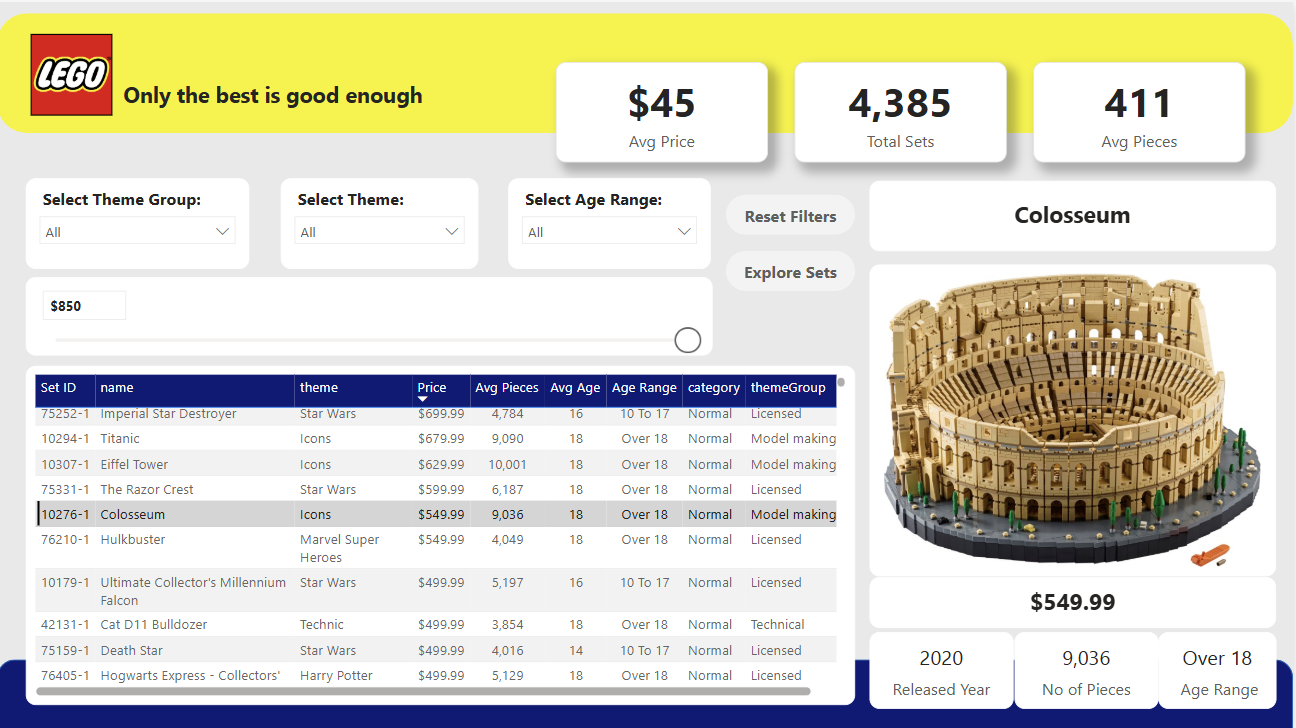

What the dashboard file says about the page in this screenshot:
{"tool":"powerbi","page":{"name":"Home","canvas":[1280,720],"ordinal":0},"visuals":[{"type":"shape","box":[0,10.9,1280,118.2],"z":0},{"type":"image","box":[29,23.2,90.5,96.5],"z":1000},{"type":"shape","box":[0,649.1,1280,71.2],"z":2000},{"type":"card","fields":{"Values":["Measure Table.Total Sets"]},"box":[788.2,59.1,209.9,98.9],"z":3000},{"type":"card","fields":{"Values":["Measure Table.Avg Price"]},"box":[552.3,59.1,209.9,98.9],"z":4000},{"type":"card","fields":{"Values":["Measure Table.Avg Pieces"]},"box":[1024.1,59.1,209.9,98.9],"z":5000},{"type":"slicer","fields":{"Values":["TBL_lego.themeGroup"]},"box":[28.8,173.5,220.8,89.3],"z":6000},{"type":"slicer","fields":{"Values":["TBL_lego.theme"]},"box":[279.7,173.5,195.4,89.3],"z":7000},{"type":"slicer","fields":{"Values":["TBL_lego.Age Range"]},"box":[505.3,173.5,200.3,89.3],"z":8000},{"type":"tableEx","fields":{"Values":["TBL_lego.set_id","TBL_lego.name","TBL_lego.theme","TBL_lego.Price","Measure Table.Avg Pieces","Measure Table.Avg Age","TBL_lego.Age Range","TBL_lego.category","TBL_lego.themeGroup"]},"box":[29,359.5,819.2,335.4],"z":9000},{"type":"simpleImageEBC4593F96F1425FB3D84C5BF02B5075","fields":{"imageURL":["TBL_lego.imageURL"]},"box":[862.1,259.9,401.7,307.6],"z":10000},{"type":"card","fields":{"Values":["Measure Table.Selected Name"]},"box":[862.1,176.6,401.7,70],"z":11000},{"type":"card","fields":{"Values":["Measure Table.Selected Year"]},"box":[862.1,621.8,142.4,76],"z":12000},{"type":"card","fields":{"Values":["Measure Table.Selected Pieces"]},"box":[1004.5,621.8,142.4,76],"z":13000},{"type":"card","fields":{"Values":["Measure Table.Selected Age Range"]},"box":[1146.8,621.8,117,76],"z":14000},{"type":"card","fields":{"Values":["Measure Table.Selected Price"]},"box":[862.1,567.5,401.7,50.7],"z":15000},{"type":"textbox","box":[119.4,71.2,333,47.1],"z":16000},{"type":"slicer","fields":{"Values":["Max Price.Max Price"]},"box":[29,271.4,446.4,77.2],"z":17000},{"type":"actionButton","box":[720.2,175.9,127.9,39.8],"z":18000},{"type":"actionButton","box":[720.2,231.4,127.9,39.8],"z":19000},{"type":"textFilter25A4896A83E0487089E2B90C9AE57C8A","fields":{"field":["TBL_lego.name"]},"box":[505.5,285.9,342.6,63.9],"z":20000}]}

Visuals, with their boxes in screenshot pixels (x1, y1, x2, y2), scaled from the page's 1280x720 canvas onto the 1296x728 screenshot:
shape: (x1=0, y1=11, x2=1295, y2=131)
image: (x1=29, y1=23, x2=121, y2=121)
shape: (x1=0, y1=656, x2=1295, y2=727)
card - Measure Table.Total Sets: (x1=798, y1=60, x2=1011, y2=160)
card - Measure Table.Avg Price: (x1=559, y1=60, x2=772, y2=160)
card - Measure Table.Avg Pieces: (x1=1037, y1=60, x2=1249, y2=160)
slicer - TBL_lego.themeGroup: (x1=29, y1=175, x2=253, y2=266)
slicer - TBL_lego.theme: (x1=283, y1=175, x2=481, y2=266)
slicer - TBL_lego.Age Range: (x1=512, y1=175, x2=714, y2=266)
tableEx - TBL_lego.set_id x TBL_lego.name: (x1=29, y1=363, x2=859, y2=703)
simpleImageEBC4593F96F1425FB3D84C5BF02B5075 - TBL_lego.imageURL: (x1=873, y1=263, x2=1280, y2=574)
card - Measure Table.Selected Name: (x1=873, y1=179, x2=1280, y2=249)
card - Measure Table.Selected Year: (x1=873, y1=629, x2=1017, y2=706)
card - Measure Table.Selected Pieces: (x1=1017, y1=629, x2=1161, y2=706)
card - Measure Table.Selected Age Range: (x1=1161, y1=629, x2=1280, y2=706)
card - Measure Table.Selected Price: (x1=873, y1=574, x2=1280, y2=625)
textbox: (x1=121, y1=72, x2=458, y2=120)
slicer - Max Price.Max Price: (x1=29, y1=274, x2=481, y2=352)
actionButton: (x1=729, y1=178, x2=859, y2=218)
actionButton: (x1=729, y1=234, x2=859, y2=274)
textFilter25A4896A83E0487089E2B90C9AE57C8A - TBL_lego.name: (x1=512, y1=289, x2=859, y2=354)
